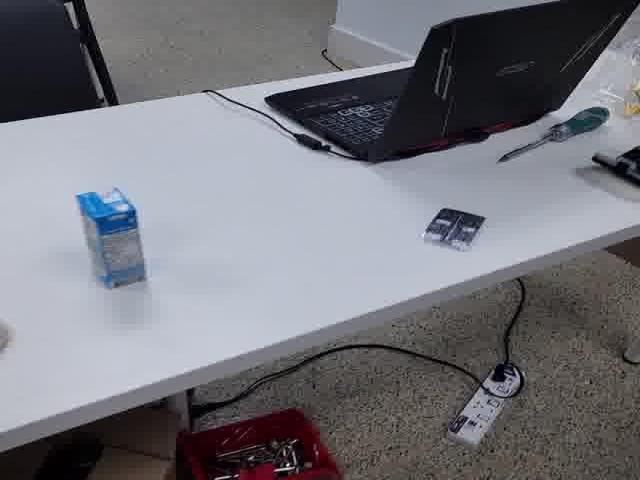drink_box: (61, 179, 158, 299)
